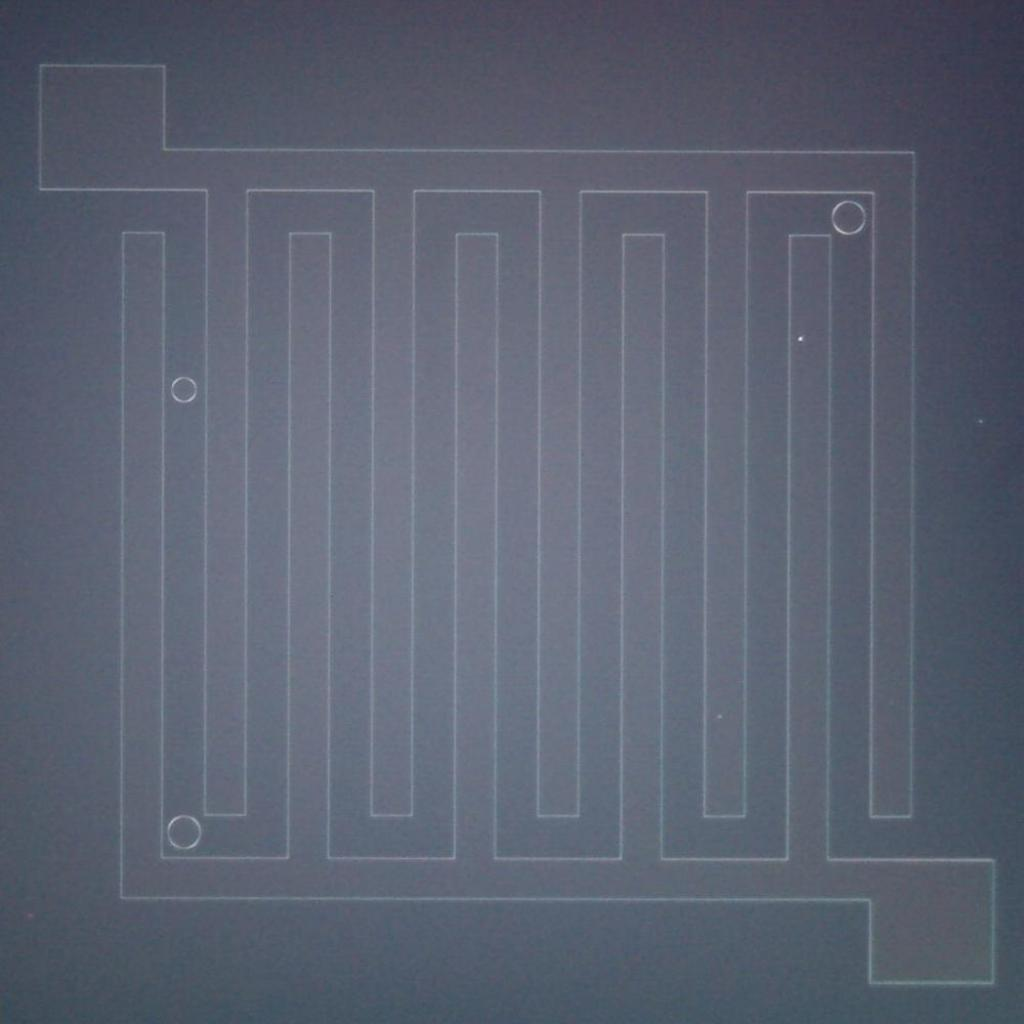dot: (717, 714, 722, 720), (798, 336, 802, 342), (979, 420, 983, 424)
